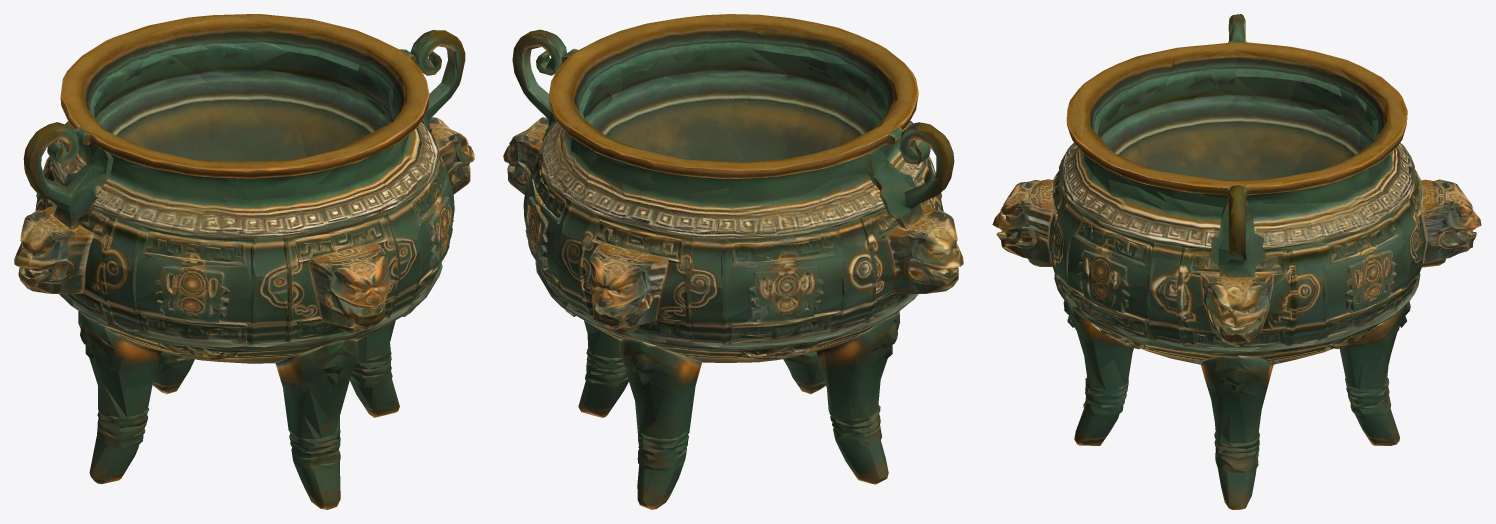
Rendered from tongding.glb.
The picture shows the model from 3 angles, left to right: view 1: azimuth 30°, elevation 25°; view 2: azimuth 150°, elevation 25°; view 3: azimuth 270°, elevation 25°; orthographic projection. The views are drawn at different scales.
Size of the model in its own units: 1.89 by 1.46 by 1.9.
Materials: 1 (1 with a texture image).
